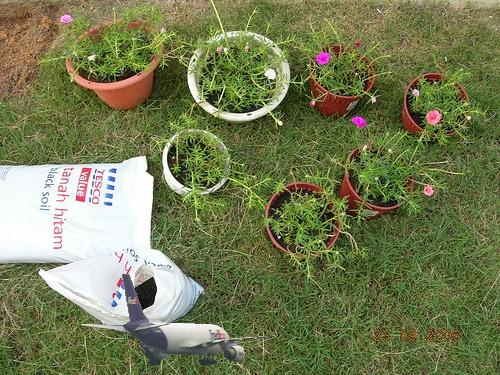tampered: (82, 275, 276, 365)
